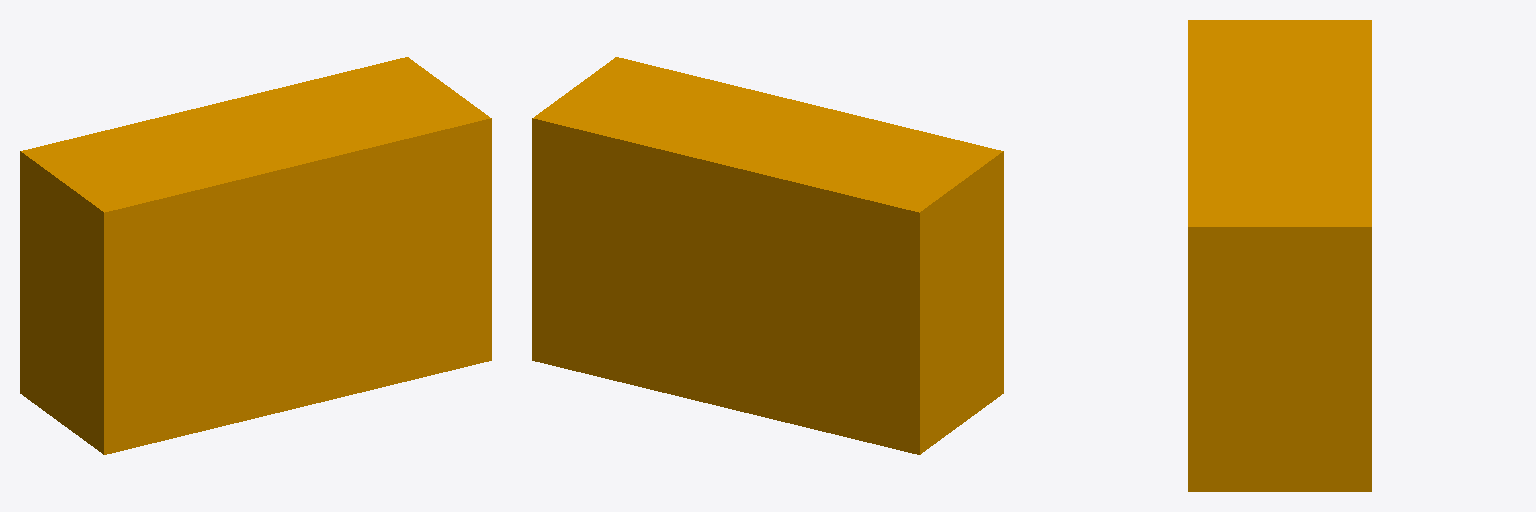
The robot description file, URDF, robot "choco":
<?xml version="1.0"?>
<robot name="choco">
    <link name="choco_base_link">
        <contact>
            <lateral_friction value="1.0"/>
            <spinning_friction value="0.01"/>
            <rolling_friction value="0.01"/>
            <contact_cfm value="0.0"/>
            <contact_erp value="1.0"/>
        </contact>
        <inertial>
            <origin rpy="0 0 0" xyz="0 0 0"/>
            <mass value="0.136"/>
            <inertia ixx="1" ixy="0" ixz="0" iyy="1" iyz="0" izz="1"/>
        </inertial>
        <visual>
            <origin rpy="0 -1.5708 -1.5708" xyz="-0.018 -0.018 -0.018"/>
            <geometry>
                <mesh filename="cuboid/visual/choco.obj" scale="0.001 0.001 0.001"/>
            </geometry>
        </visual>
        <collision>
            <origin rpy="0 -1.5708 -1.5708" xyz="-0.018 -0.018 -0.018"/>
            <geometry>
                <mesh filename="cuboid/collision/choco.stl" scale="0.001 0.001 0.001"/>
            </geometry>
        </collision>
    </link>
</robot>

--- What the picture shows (computed from the rendered views, not written in the file) ---
3 views of the same robot in one strip: view 1: azimuth 30°, elevation 25°; view 2: azimuth 150°, elevation 25°; view 3: azimuth 270°, elevation 25° (orthographic).
Robot: choco — 1 links, 0 joints (none); root link choco_base_link; default pose: every joint at zero.
Links seen in each view (by area): view 1: choco_base_link; view 2: choco_base_link; view 3: choco_base_link.
Boxes of the visible links, left/top/right/bottom form: choco_base_link: left=20, top=57, right=491, bottom=454; choco_base_link: left=532, top=57, right=1003, bottom=454; choco_base_link: left=1188, top=20, right=1371, bottom=491.
Bounding box of the posed robot: 0.157 × 0.059 × 0.094 m (x, y, z).
1 mesh visuals loaded from 1 distinct referenced files (1 OBJ).